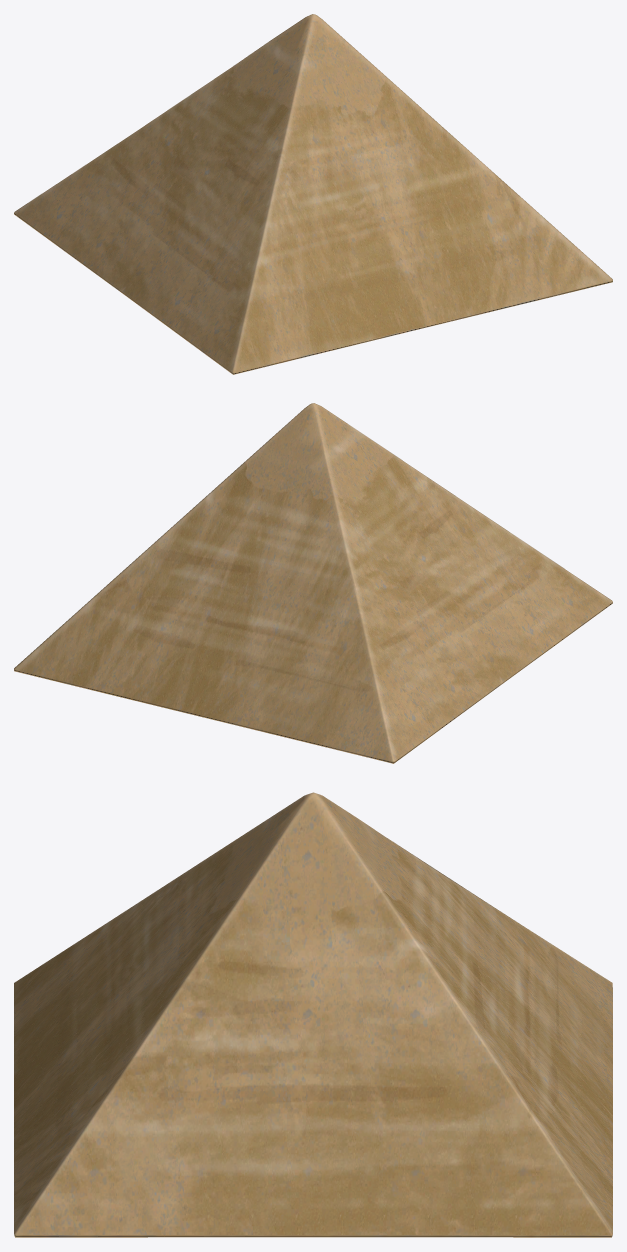
File: FtrPyramid.glb
3 views of the same model, one above another, from view 1: azimuth 30°, elevation 25°; view 2: azimuth 150°, elevation 25°; view 3: azimuth 270°, elevation 25° (orthographic). The views are drawn at different scales.
Parts seen in each view (by area): view 1: pPyramid1__mBody; view 2: pPyramid1__mBody; view 3: pPyramid1__mBody.
Boxes of the visible parts, <box> form: pPyramid1__mBody: <box>14,14,612,374</box>; pPyramid1__mBody: <box>14,403,612,763</box>; pPyramid1__mBody: <box>14,792,612,1237</box>.
Size of the model in its own units: 29.72 by 17.41 by 29.72.
1 material, 1 textured.
